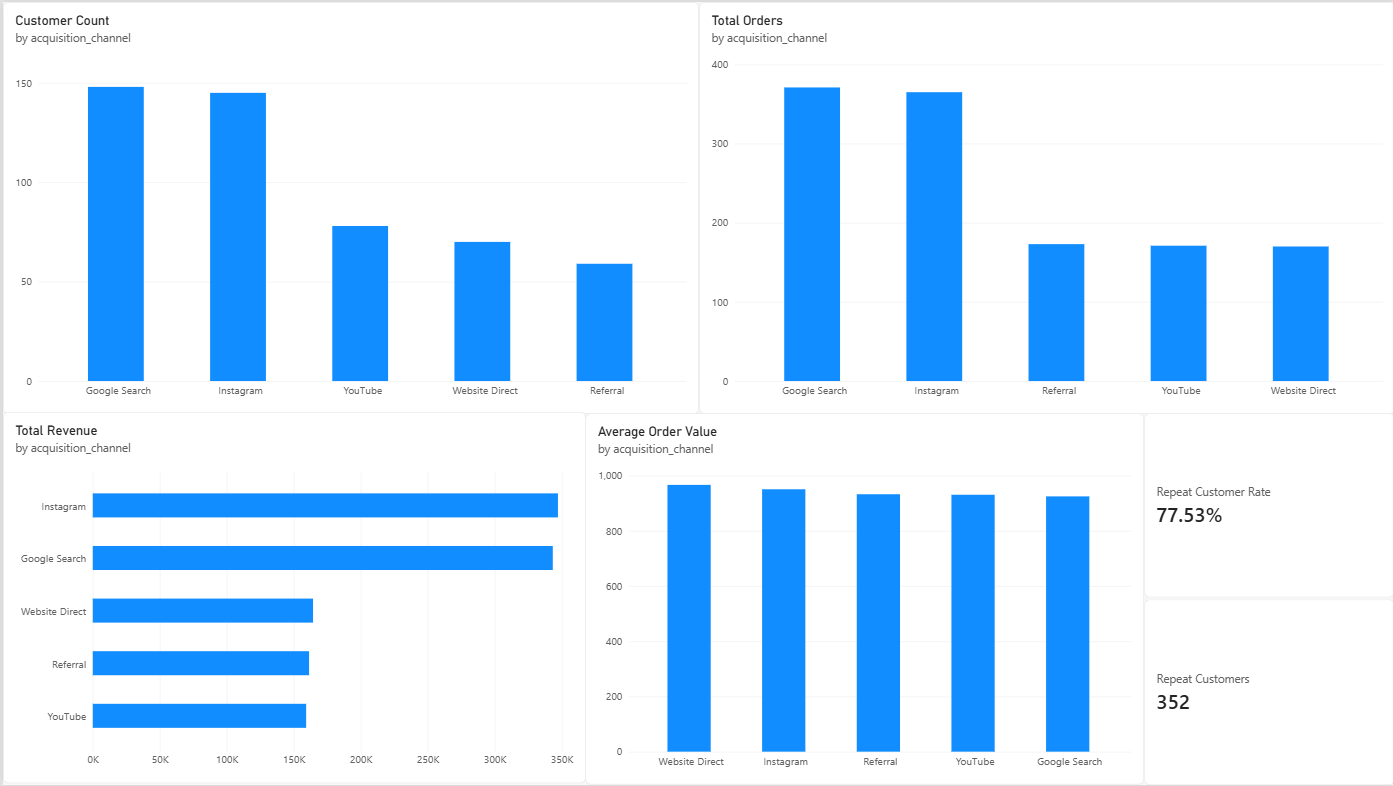

The dashboard page shown, as its layout file describes it:
{"tool":"powerbi","page":{"name":"Customer & Marketing Analysis","canvas":[1920,1080],"ordinal":1},"visuals":[{"type":"clusteredColumnChart","fields":{"Category":["Customers.acquisition_channel"],"Y":["Customers.Customer Count"]},"box":[0,0,960,568],"z":0},{"type":"clusteredColumnChart","fields":{"Category":["Customers.acquisition_channel"],"Y":["Customers.Total Orders"]},"box":[960,0,960,568],"z":1000},{"type":"clusteredColumnChart","fields":{"Category":["Customers.acquisition_channel"],"Y":["Customers.AOV"]},"box":[804,568,770,512],"z":2000},{"type":"clusteredBarChart","fields":{"Category":["Customers.acquisition_channel"],"Y":["Customers.Total Revenue"]},"box":[0,566,804,512],"z":4000},{"type":"cardVisual","fields":{"Data":["Customers.Repeat Customers"]},"box":[1574,824,346,256],"z":5000},{"type":"cardVisual","fields":{"Data":["Customers.Repeat Customer Rate"]},"box":[1574,568,346,254],"z":6000}]}

Visuals, with their boxes in screenshot pixels (x1, y1, x2, y2), scaled from the page's 1920x1080 canvas onto the 1393x786 screenshot:
clusteredColumnChart - Customers.acquisition_channel x Customers.Customer Count: Rect(0, 0, 696, 413)
clusteredColumnChart - Customers.acquisition_channel x Customers.Total Orders: Rect(696, 0, 1392, 413)
clusteredColumnChart - Customers.acquisition_channel x Customers.AOV: Rect(583, 413, 1142, 785)
clusteredBarChart - Customers.acquisition_channel x Customers.Total Revenue: Rect(0, 412, 583, 785)
cardVisual - Customers.Repeat Customers: Rect(1142, 600, 1392, 785)
cardVisual - Customers.Repeat Customer Rate: Rect(1142, 413, 1392, 598)
